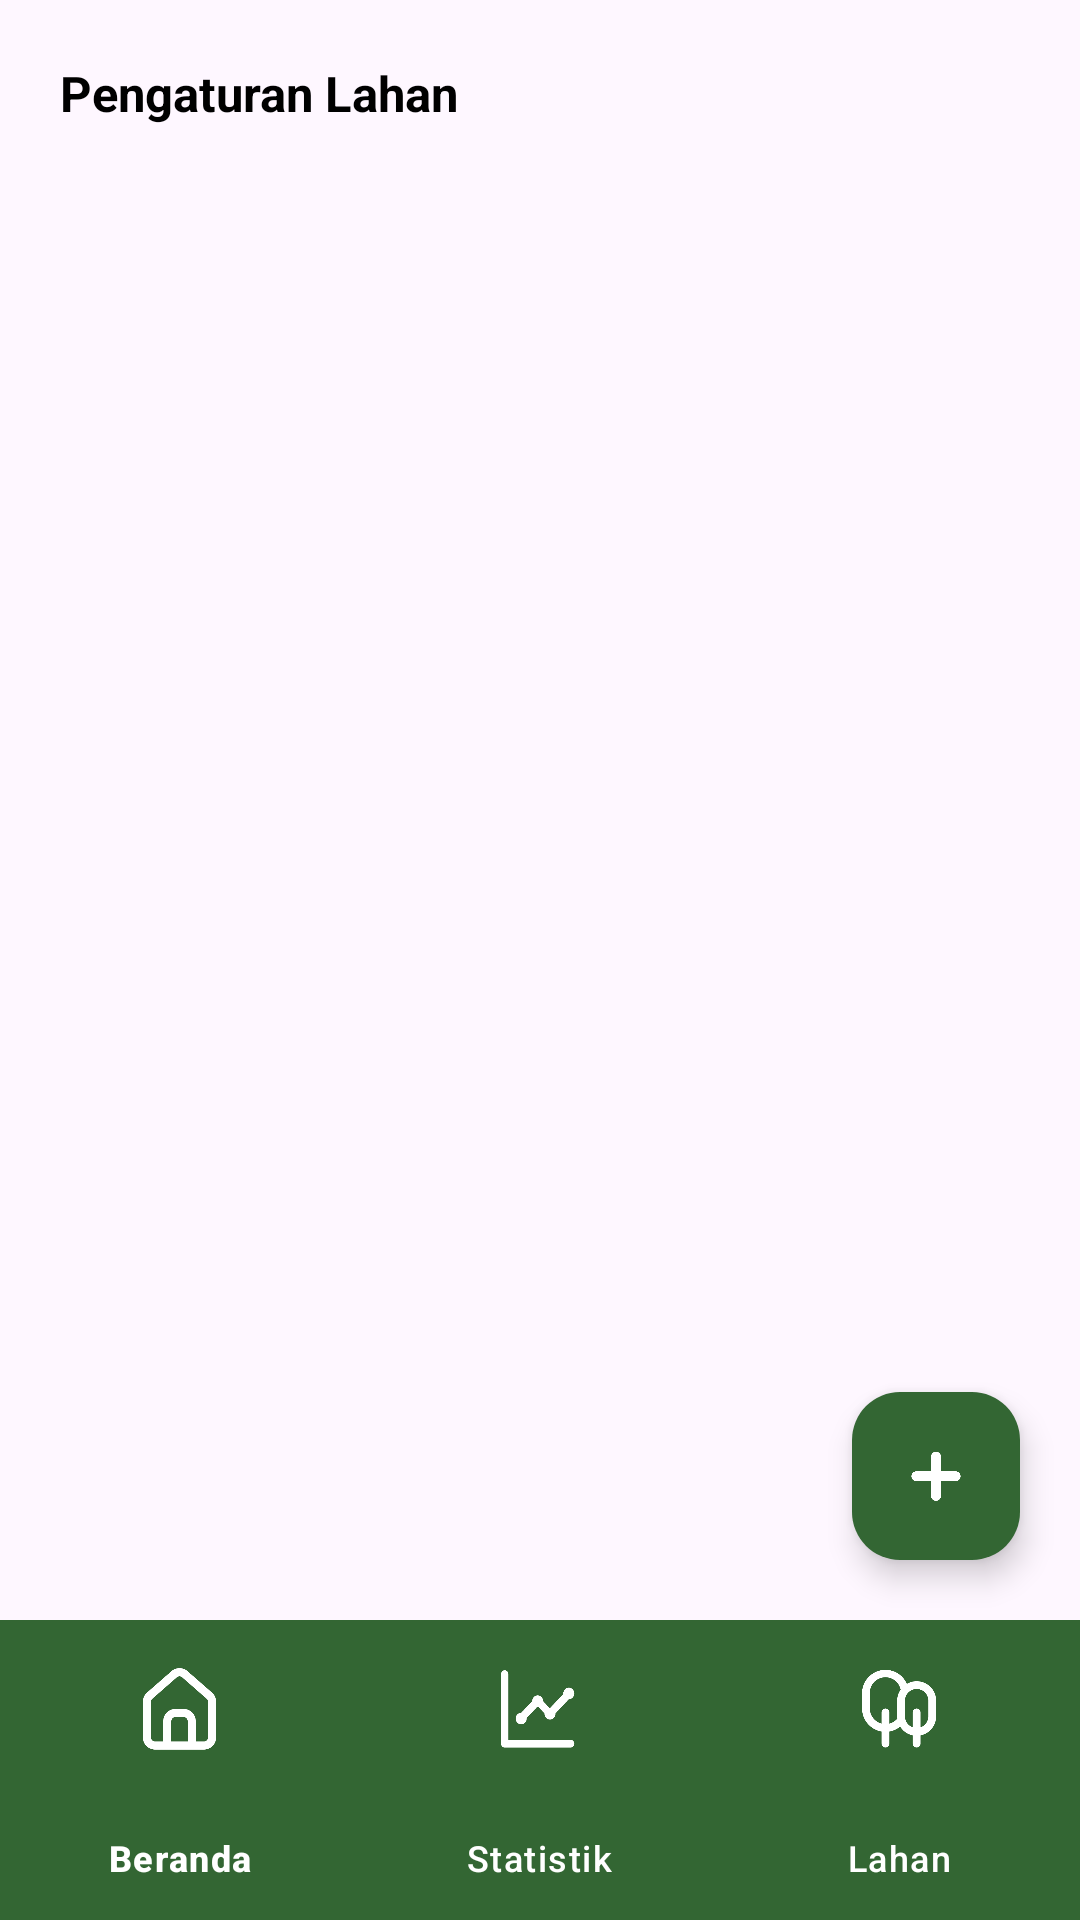

Icons on this 1080px×1920px Android screen, each with the point to tap as (x=x, y=y):
Tambah Lahan: (x=936, y=1476)
